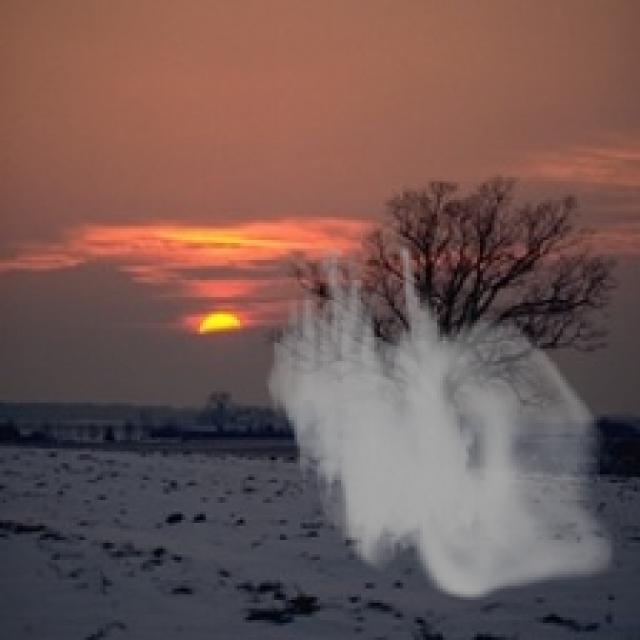smoke: (263, 246, 614, 600)
